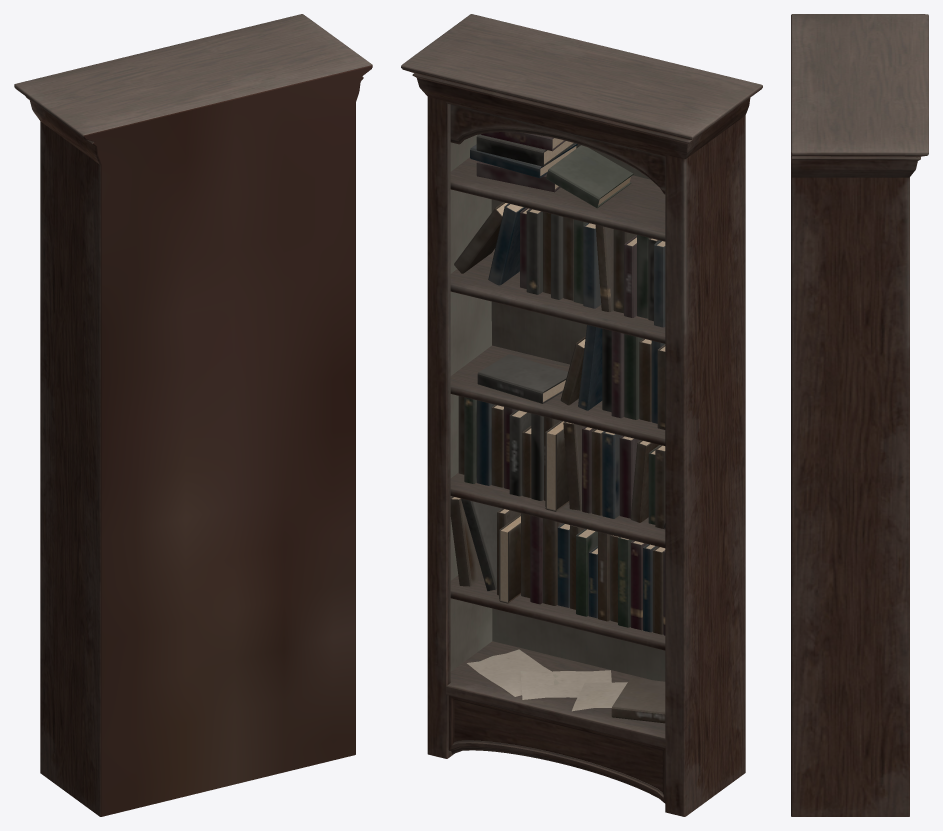
The model's file is Librero.fbx.
3 views of the same model, side by side, from view 1: azimuth 30°, elevation 25°; view 2: azimuth 150°, elevation 25°; view 3: azimuth 270°, elevation 25° (orthographic). The views are drawn at different scales.
Visible parts, largest first — view 1: Old_Dusty_Bookshelf; view 2: Old_Dusty_Bookshelf; view 3: Old_Dusty_Bookshelf.
Boxes of the visible parts, <box> form: Old_Dusty_Bookshelf: <box>14,14,372,816</box>; Old_Dusty_Bookshelf: <box>401,14,762,816</box>; Old_Dusty_Bookshelf: <box>791,14,928,816</box>.
Bounding box in the file's own units: 97.72 × 221 × 41.06.
